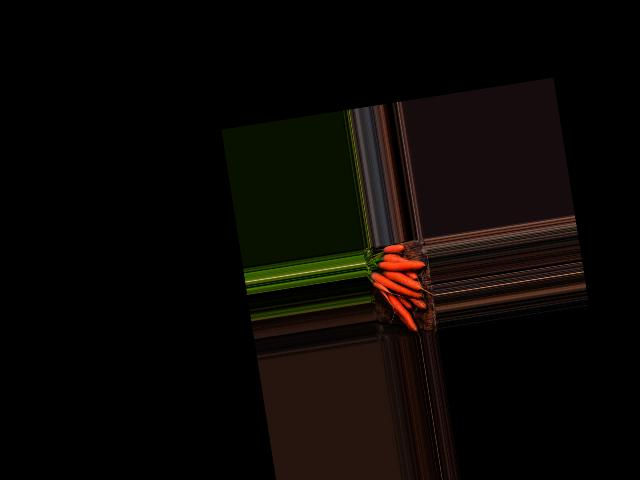carrot: (387, 289, 419, 333)
